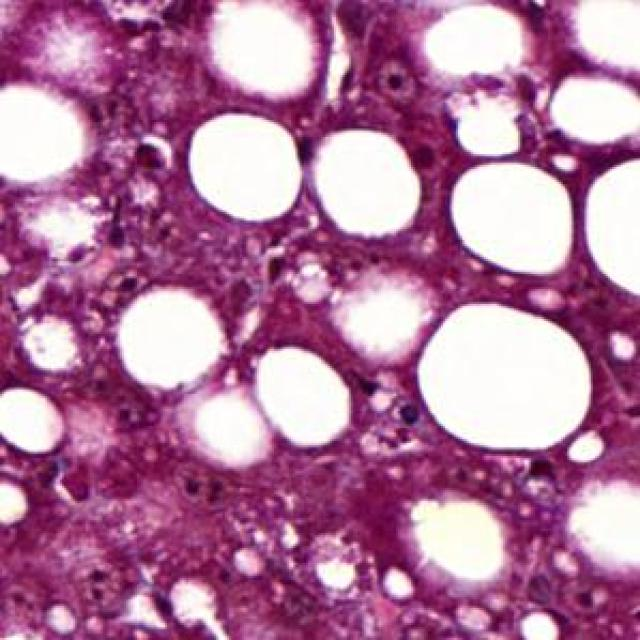steatosis: (409, 289, 601, 460), (450, 160, 580, 282), (191, 107, 306, 220), (319, 124, 417, 244), (255, 336, 355, 450)
